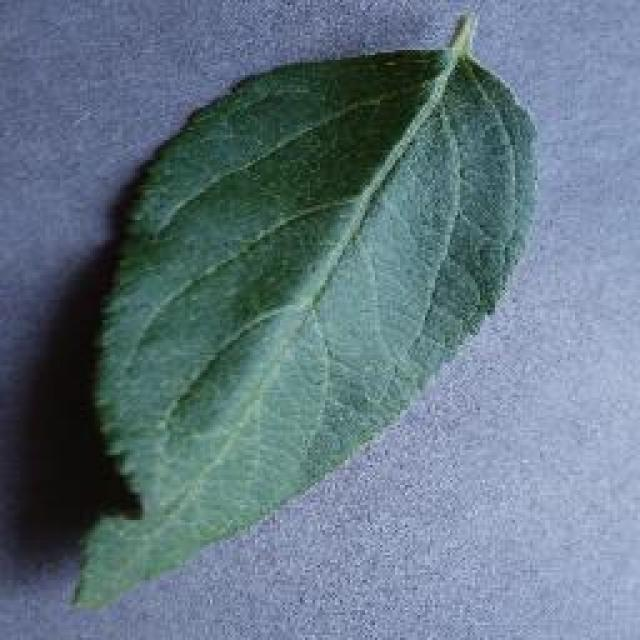apple healthy: (68, 8, 540, 610)
